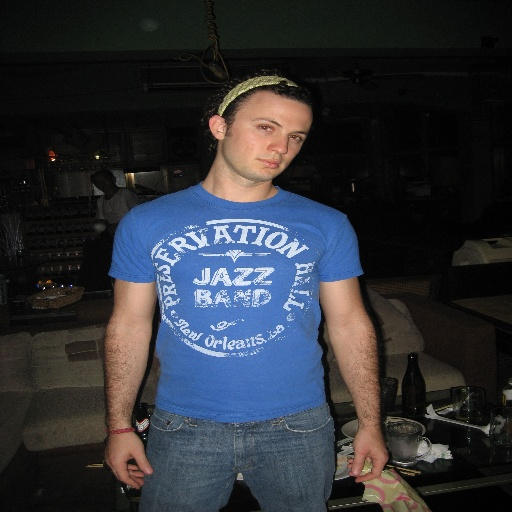hand: (97, 419, 142, 491), (344, 424, 390, 485)
